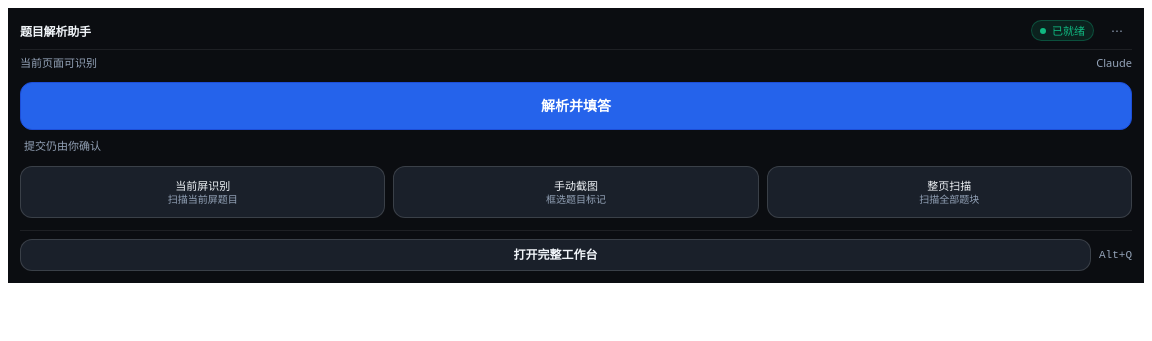
Test: PopupApp protected dispatch authority › RC03A_R5_POPUP_ROUTE_SWITCH rejects a successful but wrong-document completion
The width and height of the screenshot is (1152, 341).
Step 1. Click the text "当前屏识别" → (203, 185), box 175,179 -> 230,192
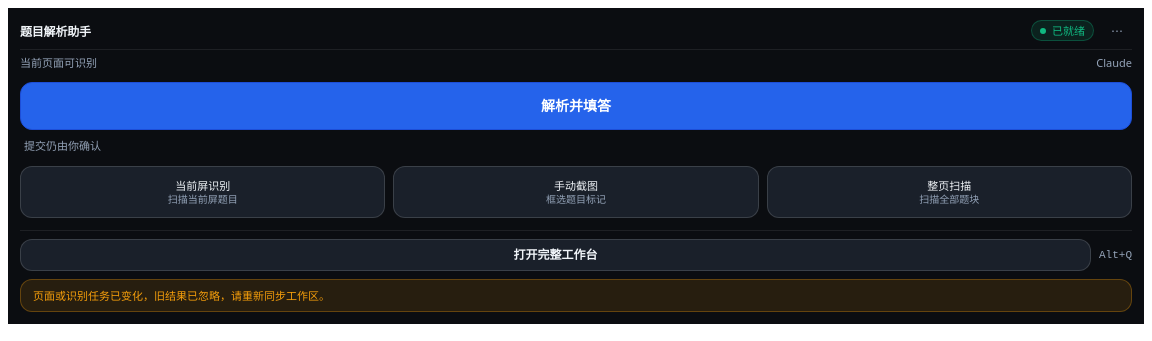
Now the text "页面或识别任务已变化，旧结果已忽略，请重新同步工作区。" is shown, box 33,288 -> 330,303
